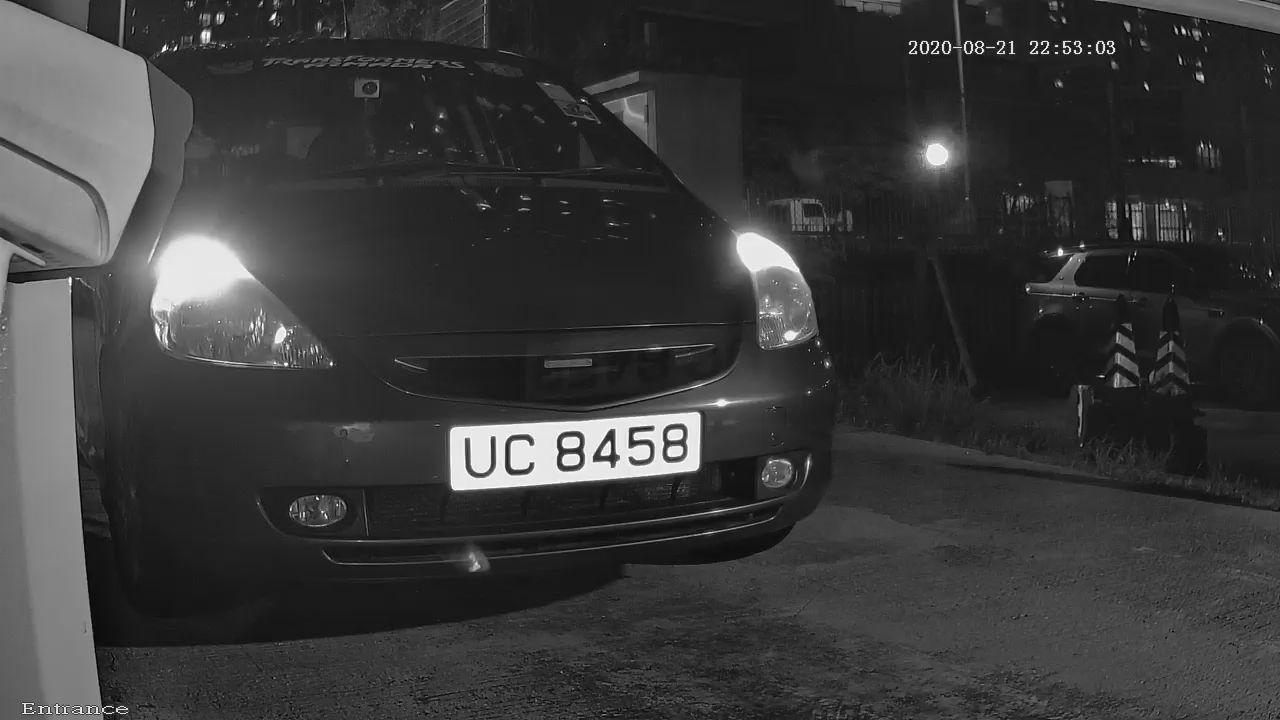Car: (1, 7, 943, 669)
License Plate: (429, 402, 721, 505)
